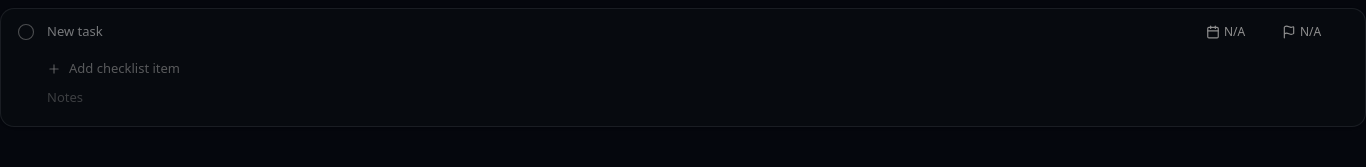
it: InlineTaskCard › shows input when Add checklist item is clicked
Click the button "Add checklist item". click: {"x": 114, "y": 69}
box: [47, 55, 180, 82]
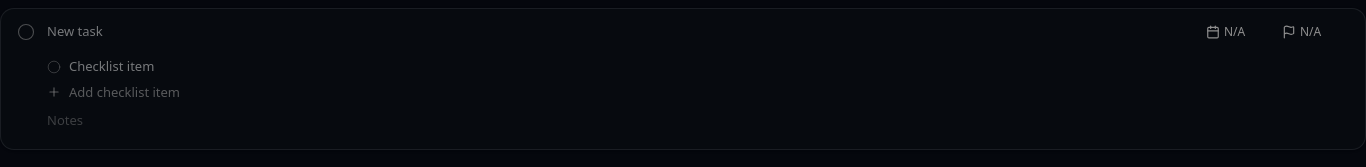
Expected: the field with placeholder "Checklist item" is shown, [69, 57, 1349, 76]
